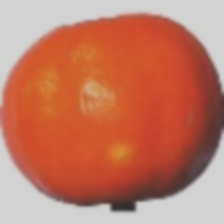tangerine: (28, 26, 202, 198)
